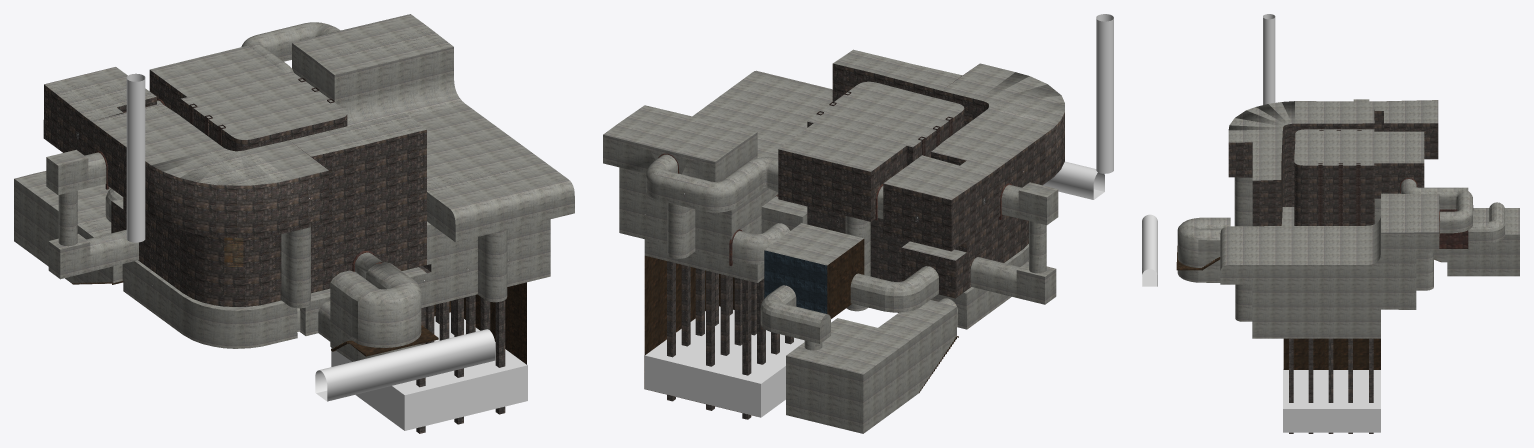
3 views of the same model, side by side, from view 1: azimuth 30°, elevation 25°; view 2: azimuth 150°, elevation 25°; view 3: azimuth 270°, elevation 25° (orthographic). The views are drawn at different scales.
Visible parts, largest first — view 1: Polygon, DeathZone1, Cylinder002, Cylinder004; view 2: Polygon, DeathZone1, Cylinder004, Cylinder002; view 3: Polygon, DeathZone1, Cylinder004, Cylinder002.
Boxes of the visible parts, left/top/right/bottom form: Polygon: left=14, top=14, right=574, bottom=433; DeathZone1: left=331, top=312, right=527, bottom=430; Cylinder002: left=315, top=329, right=495, bottom=401; Cylinder004: left=126, top=73, right=145, bottom=242; Polygon: left=603, top=49, right=1064, bottom=433; DeathZone1: left=644, top=306, right=804, bottom=417; Cylinder004: left=1096, top=14, right=1113, bottom=173; Cylinder002: left=1043, top=161, right=1104, bottom=199; Polygon: left=1176, top=99, right=1519, bottom=433; DeathZone1: left=1283, top=369, right=1380, bottom=432; Cylinder004: left=1263, top=14, right=1275, bottom=104; Cylinder002: left=1142, top=214, right=1157, bottom=286.
Size of the model in its own units: 32.45 by 32.73 by 38.31.
